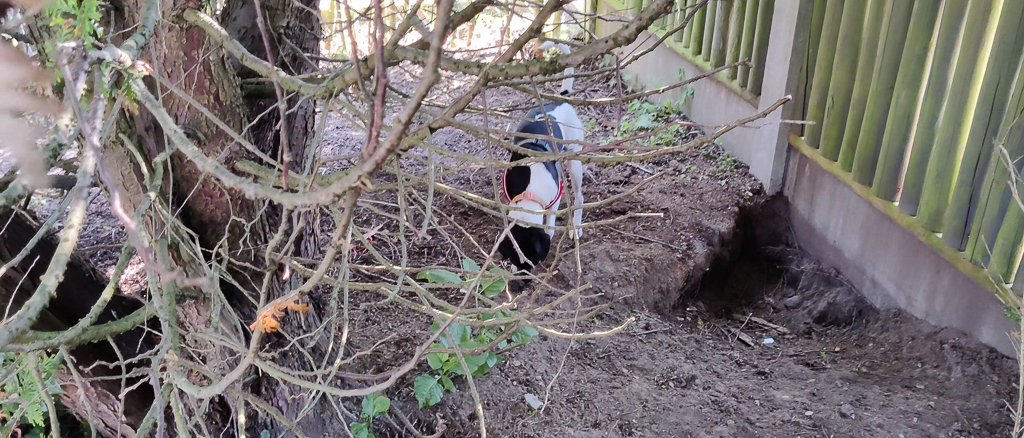Dog: (479, 33, 601, 297)
